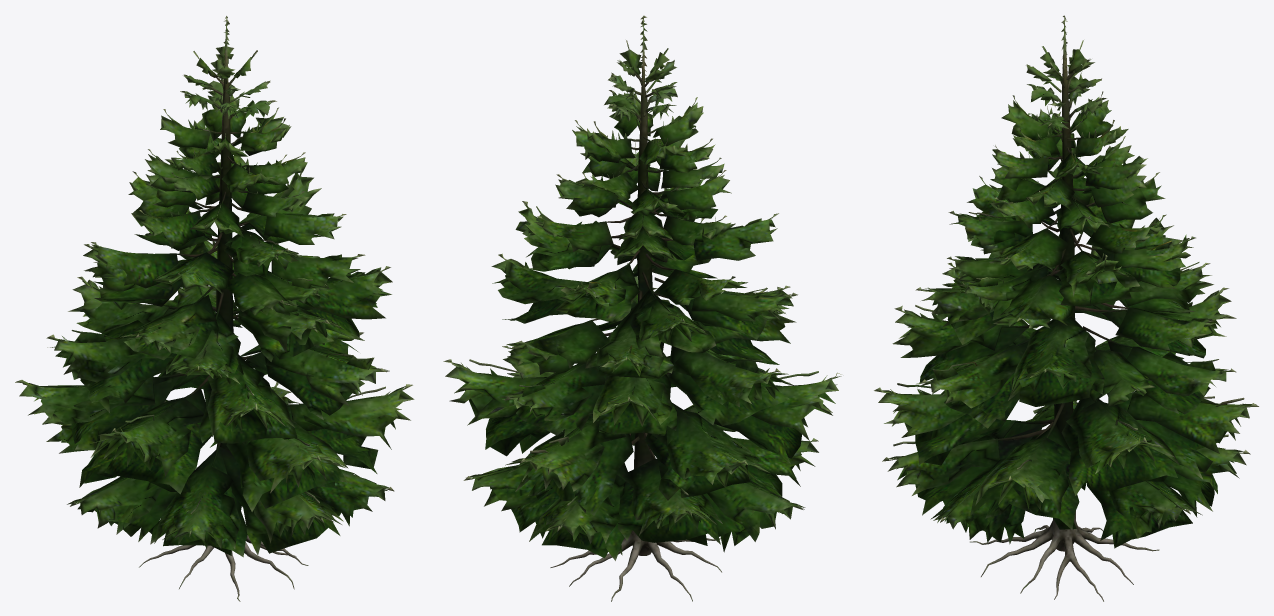
The model's file is sapling.glb.
The picture shows the model from 3 angles, left to right: view 1: azimuth 30°, elevation 25°; view 2: azimuth 150°, elevation 25°; view 3: azimuth 270°, elevation 25°; orthographic projection.
Visible parts, largest first — view 1: tripo_node_30c8e645-0bb4-4f44-82cd-9bce6d283c15; view 2: tripo_node_30c8e645-0bb4-4f44-82cd-9bce6d283c15; view 3: tripo_node_30c8e645-0bb4-4f44-82cd-9bce6d283c15.
Boxes of the visible parts, x1,y1,x2,y2 form: tripo_node_30c8e645-0bb4-4f44-82cd-9bce6d283c15: [15, 16, 414, 601]; tripo_node_30c8e645-0bb4-4f44-82cd-9bce6d283c15: [443, 15, 841, 601]; tripo_node_30c8e645-0bb4-4f44-82cd-9bce6d283c15: [874, 15, 1258, 601].
Size of the model in its own units: 0.6138 by 0.9995 by 0.6313.
Materials: 1 (1 with a texture image).
